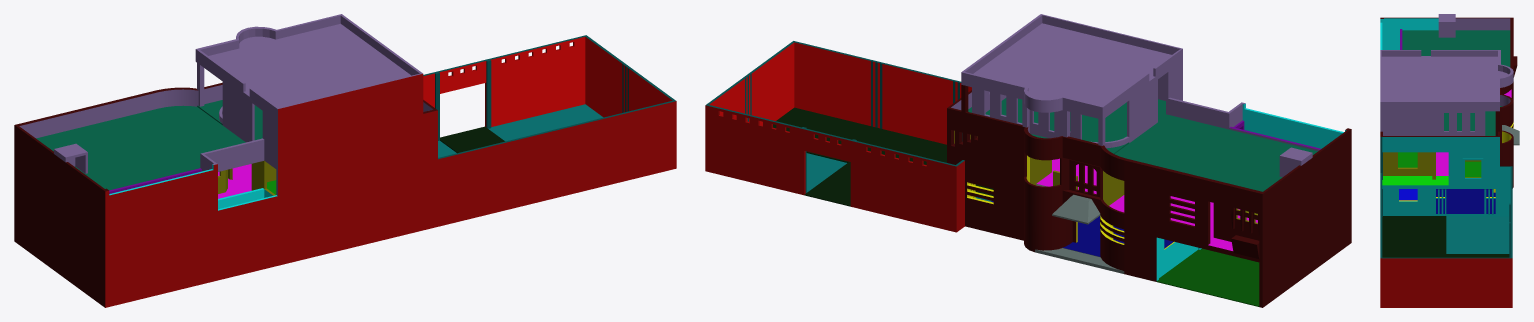
Rendered from Barranca_Honda_FINAL.fbx.
3 views of the same model, side by side, from view 1: azimuth 30°, elevation 25°; view 2: azimuth 150°, elevation 25°; view 3: azimuth 270°, elevation 25° (orthographic). The views are drawn at different scales.
Parts seen in each view (by area): view 1: AfueraPatioCasa, Top, AfueraPatioBlanco, polySurface20, TopFloor2, Pasto1, PatioRed, PisoPatio2, SegundoPiso, Garaje, polySurface16, Segundo_Floor; view 2: Top, AfueraPatioCasa, AfueraPatioBlanco, polySurface20, TopFloor2, polySurface19, polySurface7, PisoPatio2, PisoGaraje2, polySurface13, Garaje, PatioRed (+13 smaller); view 3: Top, AfueraPatioCasa, ParedPatio, PisoPatio2, TopFloor2, Pasto1, FOOR02, Garaje, SegundoPiso, PatioRed, polySurface13, PisoAfueraSegundoPiso (+9 smaller).
Part boxes in pixels (<box>): AfueraPatioCasa: <box>105,42,676,307</box>; Top: <box>19,14,433,195</box>; AfueraPatioBlanco: <box>423,36,672,126</box>; polySurface20: <box>14,125,105,307</box>; TopFloor2: <box>36,100,262,190</box>; Pasto1: <box>438,104,603,157</box>; PatioRed: <box>423,35,675,159</box>; PisoPatio2: <box>440,126,504,153</box>; SegundoPiso: <box>218,160,276,195</box>; Garaje: <box>109,164,277,210</box>; polySurface16: <box>15,82,222,153</box>; Segundo_Floor: <box>218,164,251,198</box>; Top: <box>951,14,1319,177</box>; AfueraPatioCasa: <box>705,105,964,232</box>; AfueraPatioBlanco: <box>709,42,971,144</box>; polySurface20: <box>1262,129,1351,307</box>; TopFloor2: <box>968,98,1317,191</box>; polySurface19: <box>1124,160,1262,307</box>; polySurface7: <box>947,108,1024,240</box>; PisoPatio2: <box>773,107,993,206</box>; PisoGaraje2: <box>1156,248,1259,306</box>; polySurface13: <box>1024,131,1072,252</box>; Garaje: <box>1156,103,1346,280</box>; PatioRed: <box>706,41,964,193</box>; Top: <box>1380,14,1513,135</box>; AfueraPatioCasa: <box>1380,258,1512,307</box>; ParedPatio: <box>1382,137,1510,216</box>; PisoPatio2: <box>1382,216,1509,257</box>; TopFloor2: <box>1402,30,1510,135</box>; Pasto1: <box>1446,216,1509,253</box>; FOOR02: <box>1436,189,1495,213</box>; Garaje: <box>1380,18,1438,49</box>; SegundoPiso: <box>1383,152,1481,179</box>; PatioRed: <box>1380,137,1512,258</box>; polySurface13: <box>1500,102,1513,188</box>; PisoAfueraSegundoPiso: <box>1382,176,1448,185</box>.
Size of the model in its own units: 3639 by 954 by 1049.
